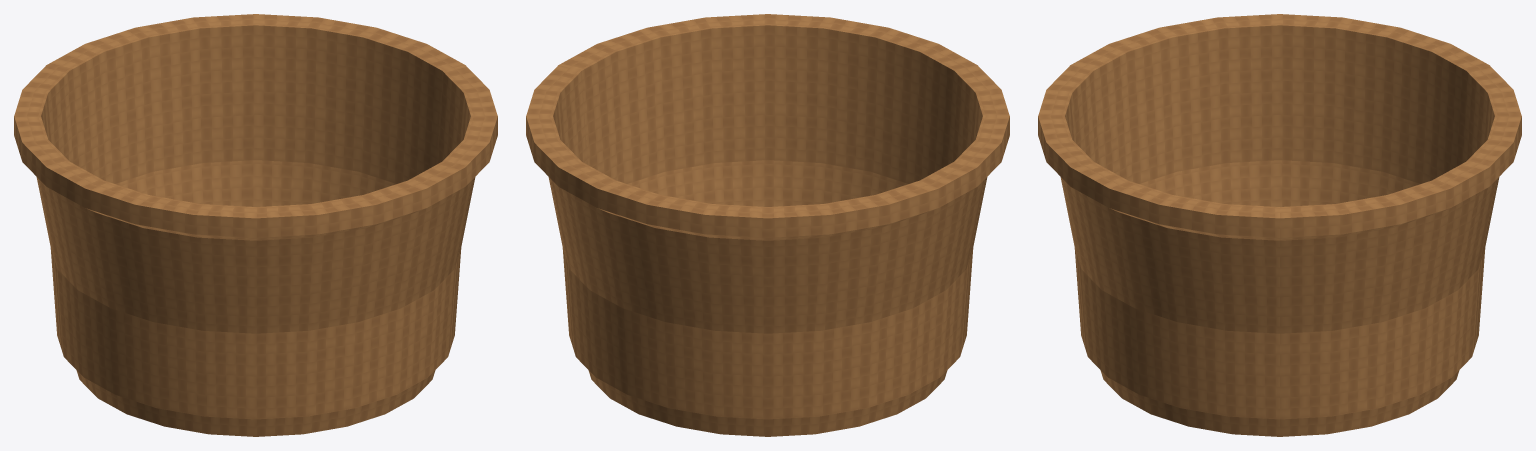
The model's file is SM_Basket_Wicker_Round.fbx.
The picture shows the model from 3 angles, left to right: view 1: azimuth 30°, elevation 25°; view 2: azimuth 150°, elevation 25°; view 3: azimuth 270°, elevation 25°; orthographic projection.
Parts seen in each view (by area): view 1: SM_Basket_Wicker_Round; view 2: SM_Basket_Wicker_Round; view 3: SM_Basket_Wicker_Round.
Boxes of the visible parts, <box> form: SM_Basket_Wicker_Round: <box>14,14,497,436</box>; SM_Basket_Wicker_Round: <box>526,14,1009,436</box>; SM_Basket_Wicker_Round: <box>1038,14,1521,436</box>.
Size of what is drawn, in the model's own units: 0.45 by 0.25 by 0.45.
1 material, 1 textured.
